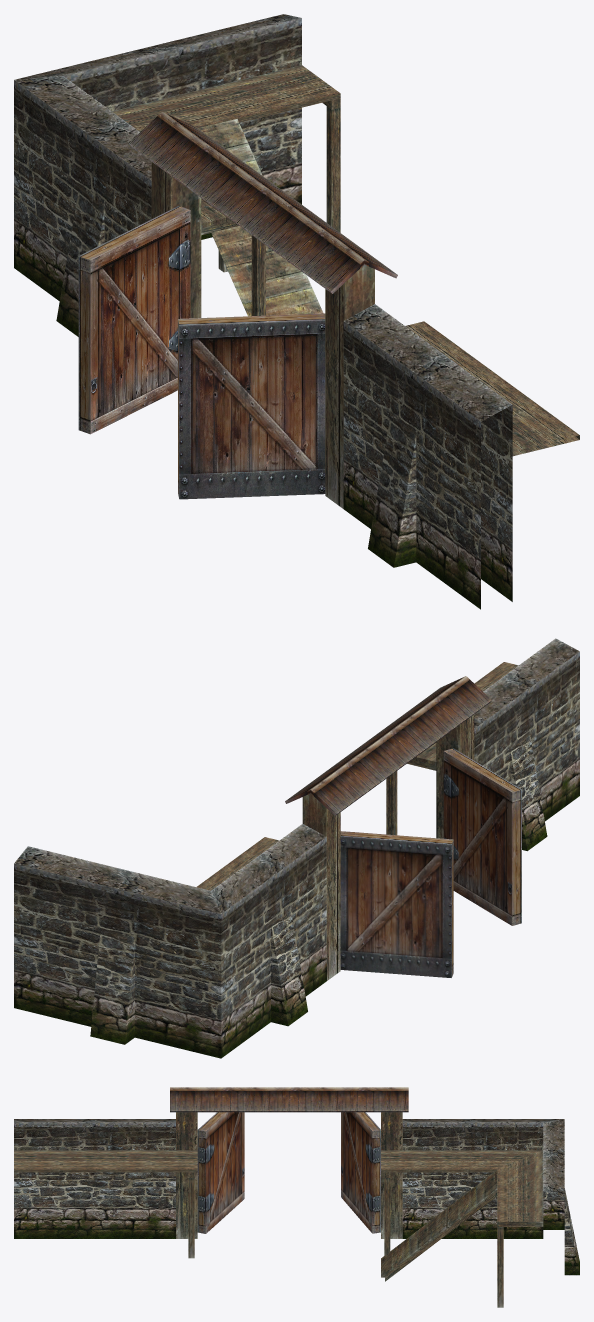
Rendered from mhouse20a.glb.
The picture shows the model from 3 angles, top to bottom: view 1: azimuth 30°, elevation 25°; view 2: azimuth 150°, elevation 25°; view 3: azimuth 270°, elevation 25°; orthographic projection. The views are drawn at different scales.
Parts seen in each view (by area): view 1: mhouse20a; view 2: mhouse20a; view 3: mhouse20a.
Boxes of the visible parts, x1=… form: mhouse20a: x1=14, y1=14, x2=579, y2=609; mhouse20a: x1=14, y1=638, x2=579, y2=1058; mhouse20a: x1=14, y1=1087, x2=579, y2=1307.
Size of the model in its own units: 8.62 by 5.5 by 18.5.
9 materials, 9 textured.
